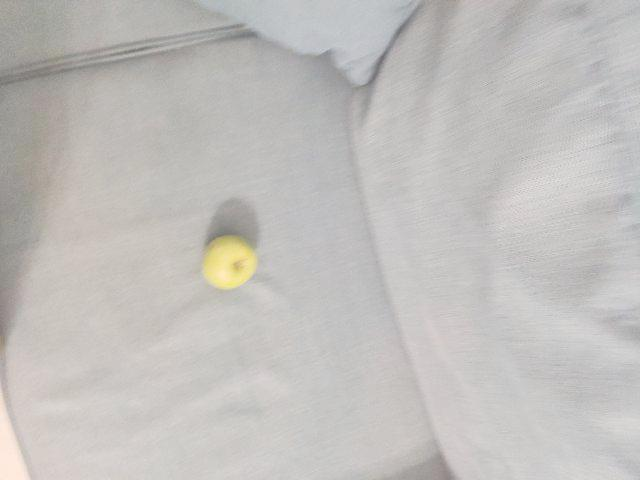apple: (192, 233, 261, 303)
